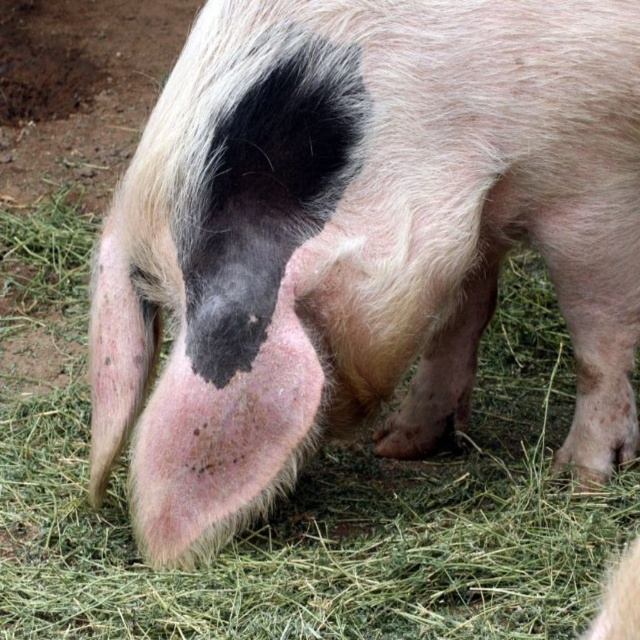Pig: (87, 0, 639, 570), (588, 532, 639, 639)
